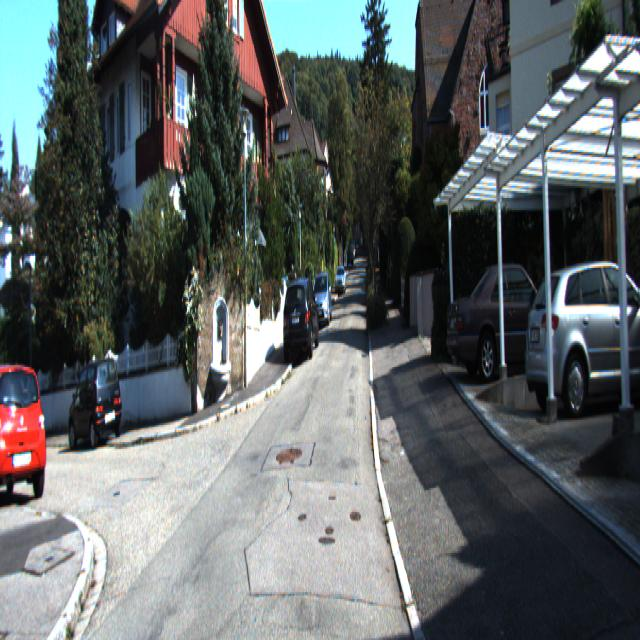Car: (520, 252, 640, 422), (448, 257, 580, 389), (0, 359, 51, 514), (68, 352, 122, 466), (282, 273, 320, 364), (311, 268, 332, 325), (336, 266, 346, 295)
DontCare: (347, 234, 359, 268)
